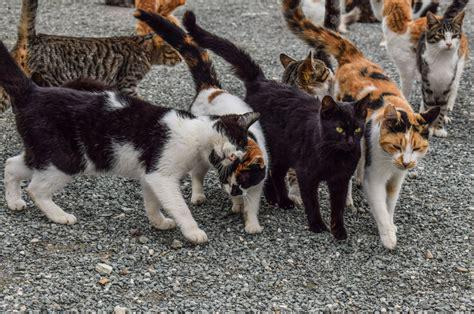cat: (1, 39, 261, 244), (184, 11, 369, 240), (282, 1, 438, 248), (135, 12, 269, 233), (1, 1, 181, 110), (381, 1, 467, 110), (417, 10, 465, 137), (279, 51, 334, 100)
